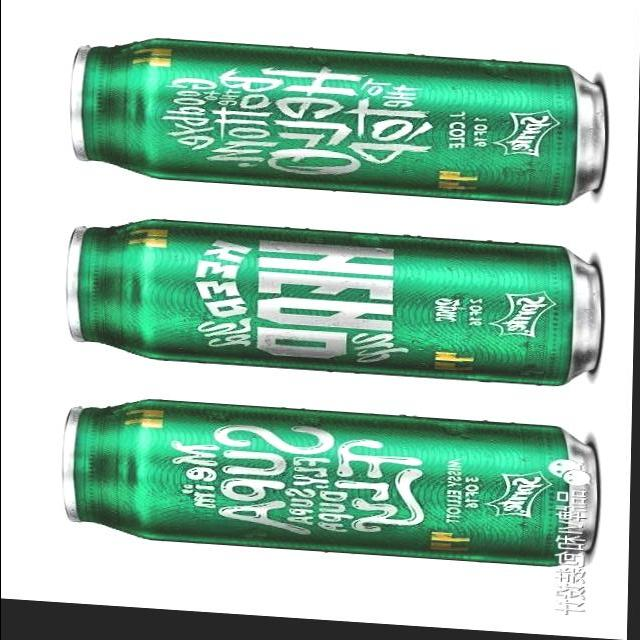litter: (55, 32, 610, 222), (55, 393, 608, 580), (59, 216, 611, 403)
